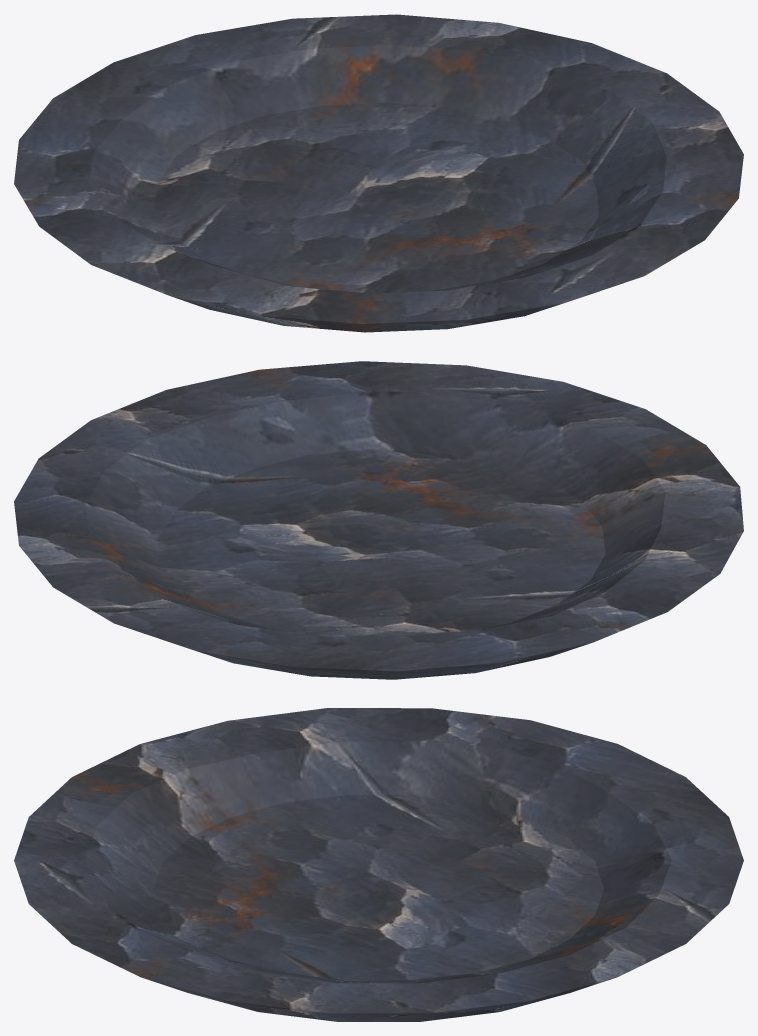
The model's file is tr_plate.glb.
3 renders of one model, top to bottom at view 1: azimuth 30°, elevation 25°; view 2: azimuth 150°, elevation 25°; view 3: azimuth 270°, elevation 25°, orthographic.
Visible parts, largest first — view 1: model; view 2: model; view 3: model.
Part boxes in pixels (x1,y1,x2,y2): model: (14, 14, 743, 332); model: (14, 361, 743, 679); model: (14, 708, 743, 1021).
Size of the model in its own units: 0.3333 by 0.0202 by 0.3369.
1 material, 1 textured.
